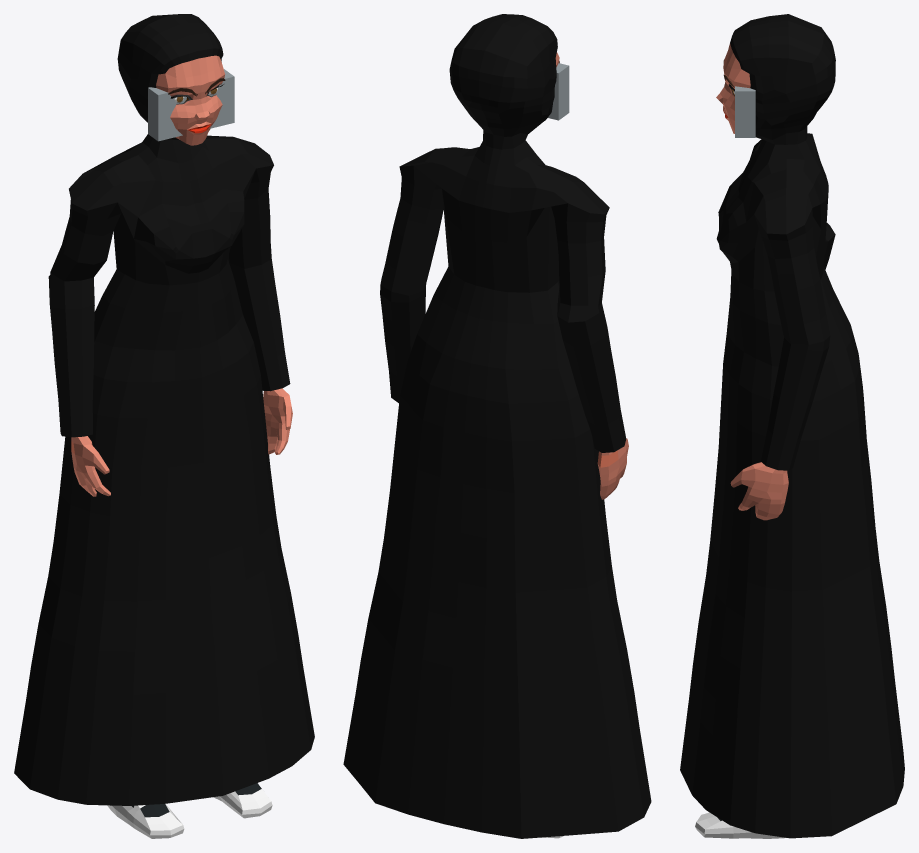
The model's file is TeacherFemale_Stand_Mask.fbx.
3 renders of one model, left to right at view 1: azimuth 30°, elevation 25°; view 2: azimuth 150°, elevation 25°; view 3: azimuth 270°, elevation 25°, orthographic. The views are drawn at different scales.
Visible parts, largest first — view 1: TeacherFemale_Stand_Mask; view 2: TeacherFemale_Stand_Mask; view 3: TeacherFemale_Stand_Mask.
Boxes of the visible parts, bbox=[...] form: TeacherFemale_Stand_Mask: bbox=[14, 14, 314, 838]; TeacherFemale_Stand_Mask: bbox=[343, 14, 651, 838]; TeacherFemale_Stand_Mask: bbox=[680, 14, 904, 838].
Bounding box in the file's own units: 0.3457 × 0.9253 × 0.2396.
